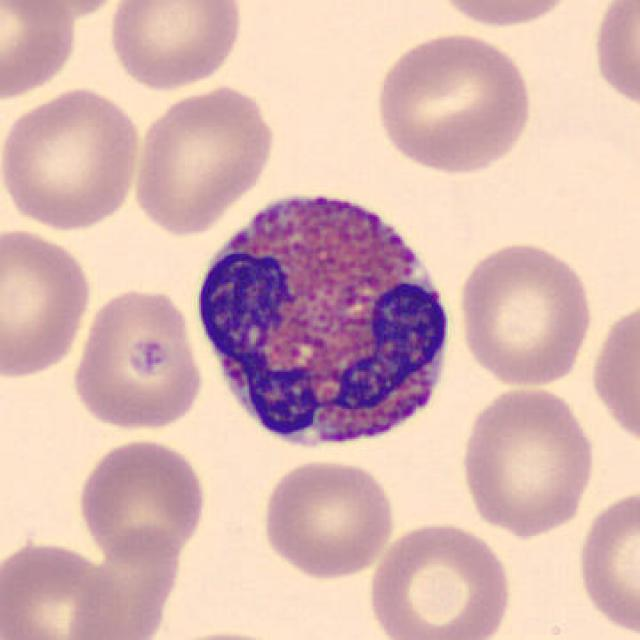Eosinophil: (183, 169, 462, 467)
RBC: (370, 28, 537, 176), (130, 83, 279, 236), (455, 382, 599, 540), (0, 83, 146, 233), (454, 236, 596, 390), (69, 282, 208, 434), (364, 518, 516, 640), (258, 455, 398, 580), (74, 436, 210, 564), (0, 224, 94, 383), (2, 536, 133, 640), (103, 0, 247, 92), (572, 483, 638, 638), (0, 0, 82, 104), (587, 295, 638, 453), (588, 0, 638, 116), (429, 0, 583, 30), (0, 0, 133, 21), (151, 626, 299, 640)
